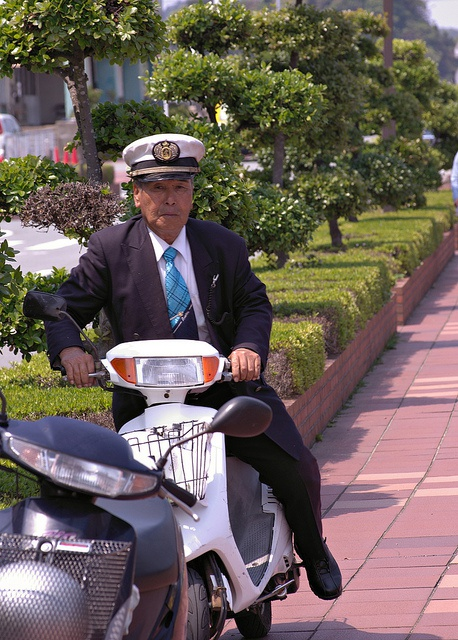non-vehicle: (24, 287, 294, 635), (1, 418, 188, 633)
